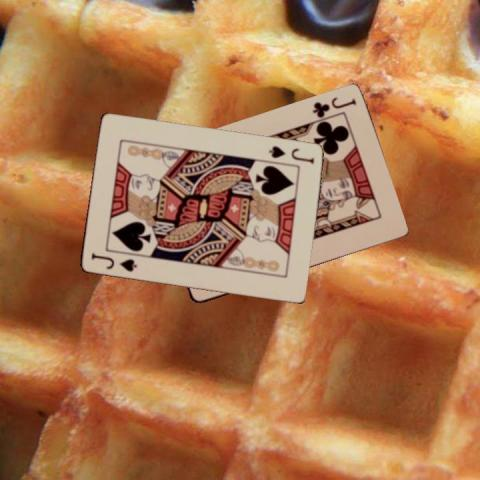Jc: (310, 94, 358, 120)
Js: (88, 250, 138, 273), (266, 143, 316, 166)
